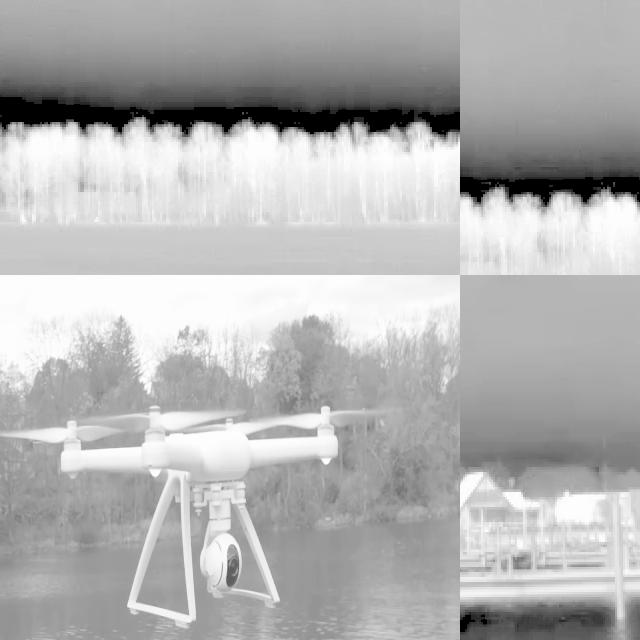drone: (48, 398, 354, 625)
